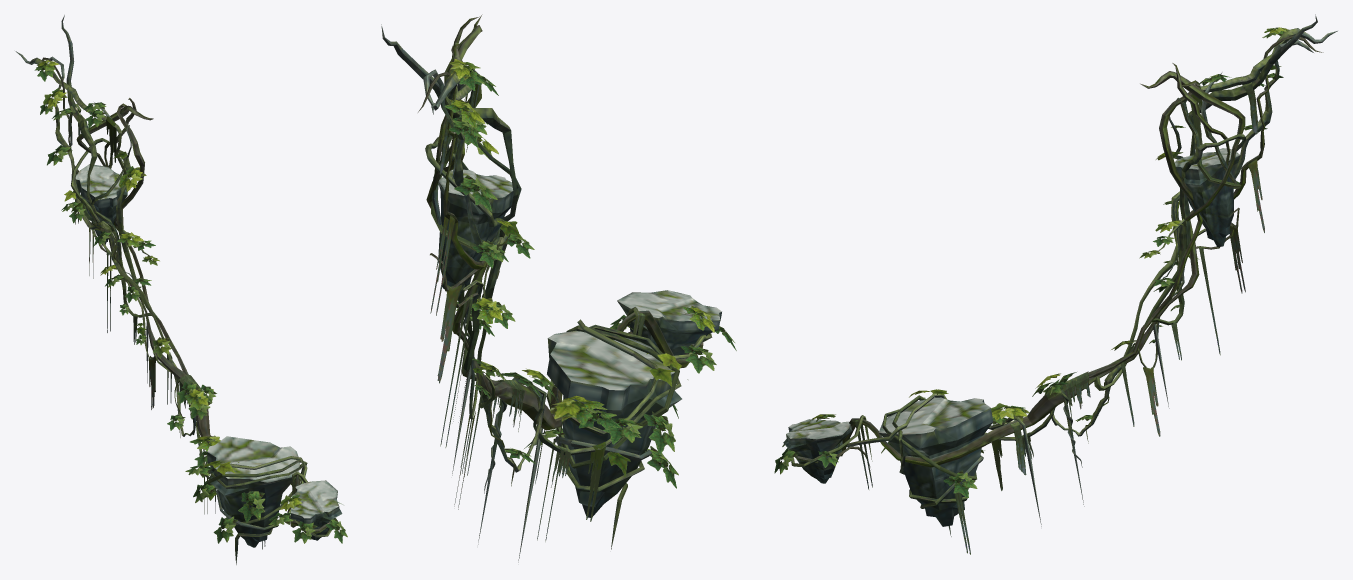
The model's file is Item_3002_shanshi01_fukongdao03.FBX.
The picture shows the model from 3 angles, left to right: view 1: azimuth 30°, elevation 25°; view 2: azimuth 150°, elevation 25°; view 3: azimuth 270°, elevation 25°; orthographic projection. The views are drawn at different scales.
Visible parts, largest first — view 1: Item_3002_shanshi01_fukongdao03, Plant_3002_zhiwu01_fukongdao03; view 2: Item_3002_shanshi01_fukongdao03, Plant_3002_zhiwu01_fukongdao03; view 3: Item_3002_shanshi01_fukongdao03, Plant_3002_zhiwu01_fukongdao03.
Part boxes in pixels (<box>): Item_3002_shanshi01_fukongdao03: <box>15,15,342,564</box>; Plant_3002_zhiwu01_fukongdao03: <box>35,60,347,549</box>; Item_3002_shanshi01_fukongdao03: <box>381,14,721,562</box>; Plant_3002_zhiwu01_fukongdao03: <box>430,58,736,541</box>; Item_3002_shanshi01_fukongdao03: <box>783,14,1337,536</box>; Plant_3002_zhiwu01_fukongdao03: <box>774,27,1290,554</box>.
Bounding box in the file's own units: 2075 × 7240 × 7153.
